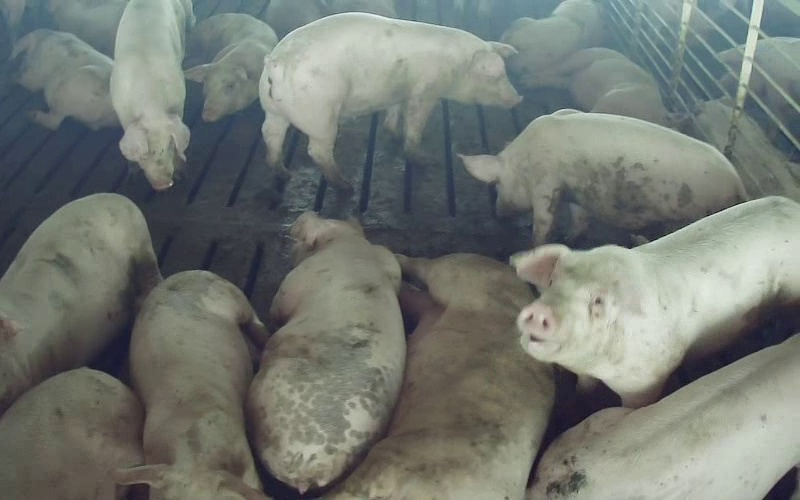pig: (511, 196, 799, 406), (328, 254, 554, 499), (259, 13, 520, 187), (528, 334, 799, 499), (247, 212, 405, 492), (0, 193, 160, 414), (114, 271, 265, 499), (0, 368, 143, 499), (110, 0, 193, 189), (522, 47, 666, 124), (12, 29, 118, 129), (185, 13, 277, 120), (500, 0, 602, 73)
